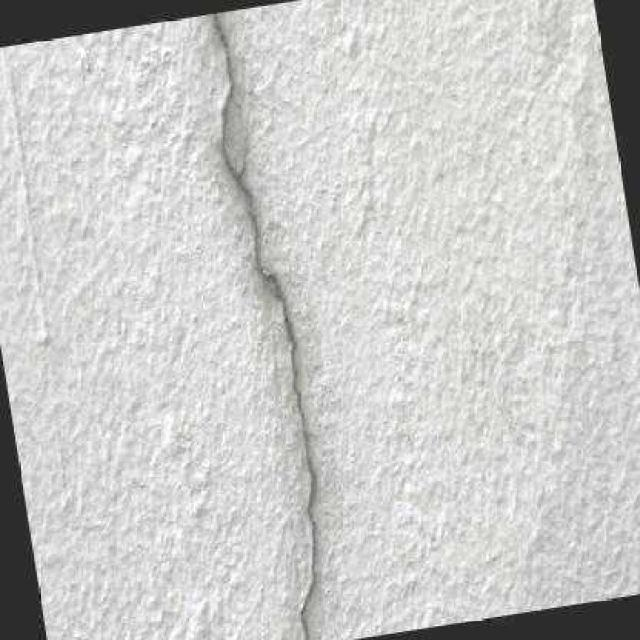D00: (211, 12, 317, 640)
